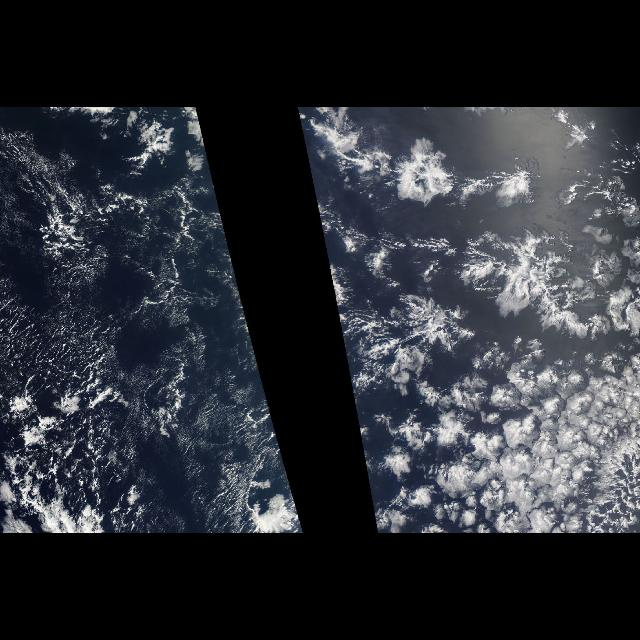Flower: (306, 116, 632, 397)
